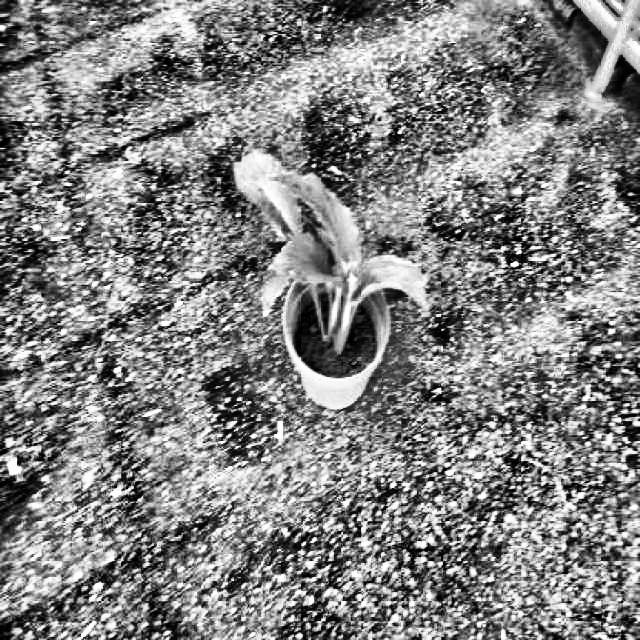plants: (226, 146, 434, 354)
